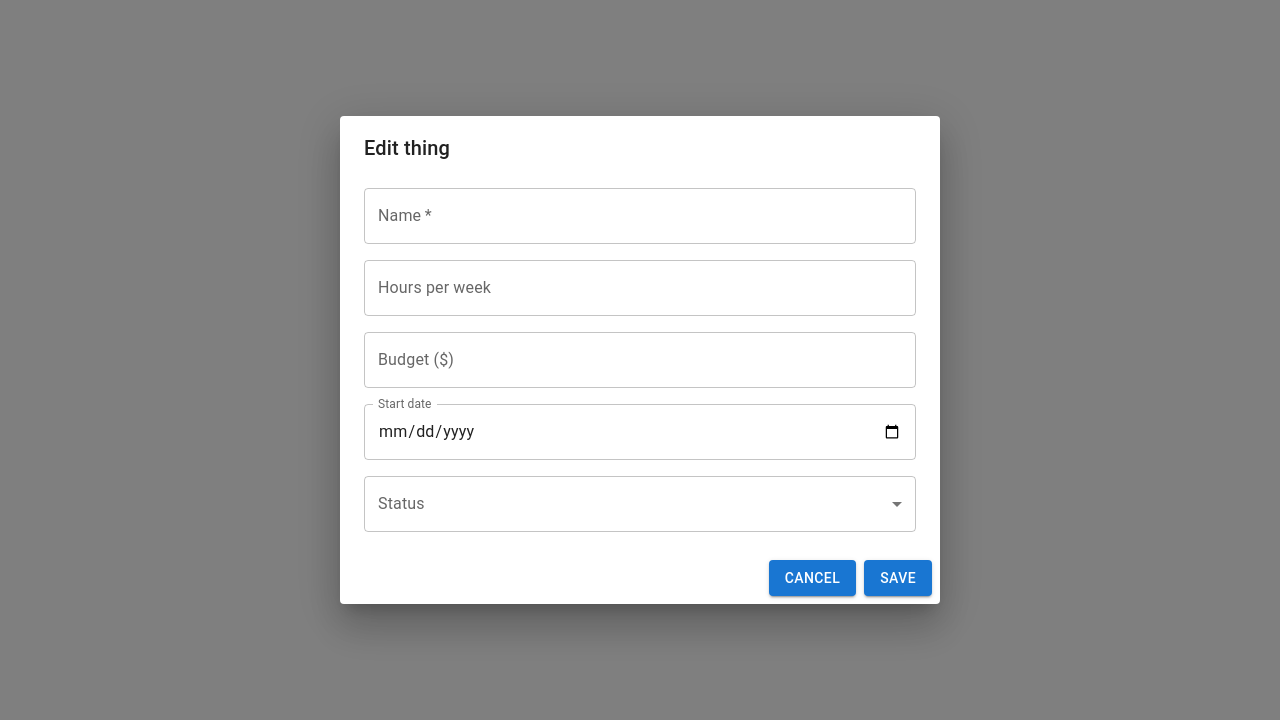
Test: FormDialog › checks before sending (spec 5a) › focuses the field the server names, once the form is enabled again
Type "Apollo" into the field labelled "Name *".
click(640, 216); type("Apollo")  # box [364,188,916,244]
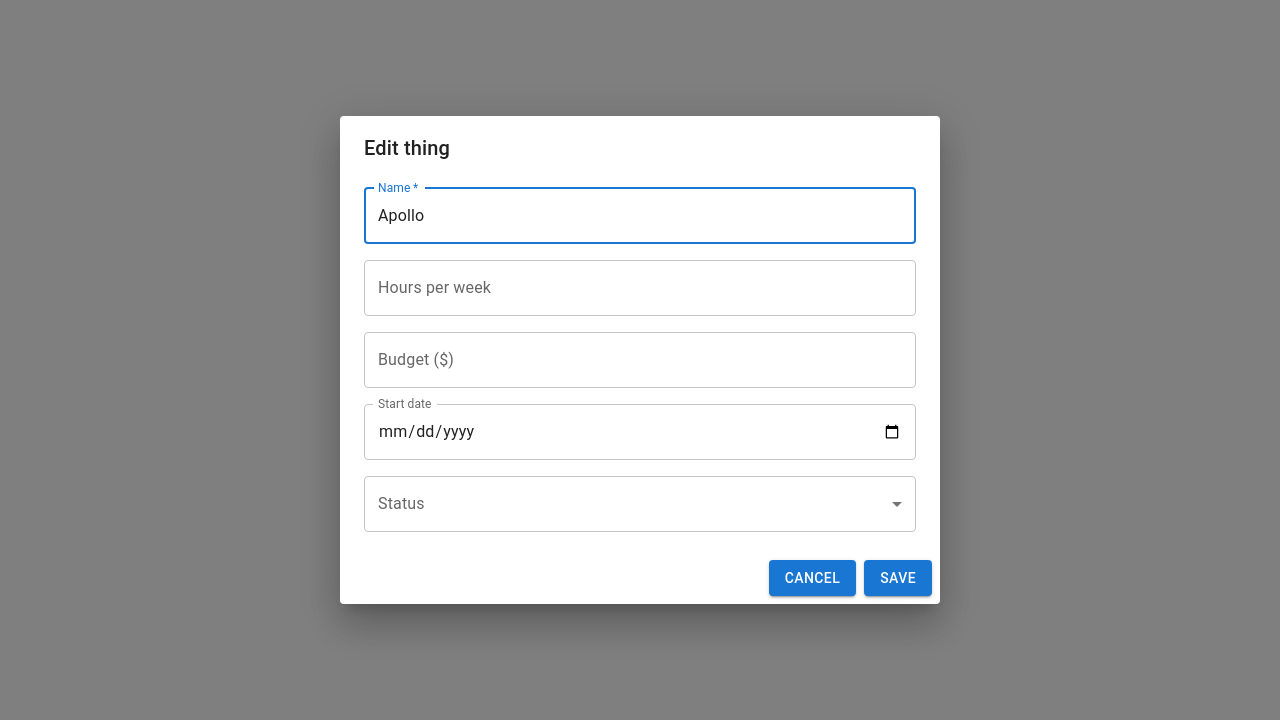
Type "60" into the number field labelled "Hours per week".
click(640, 288); type("60")  # box [364,260,916,316]
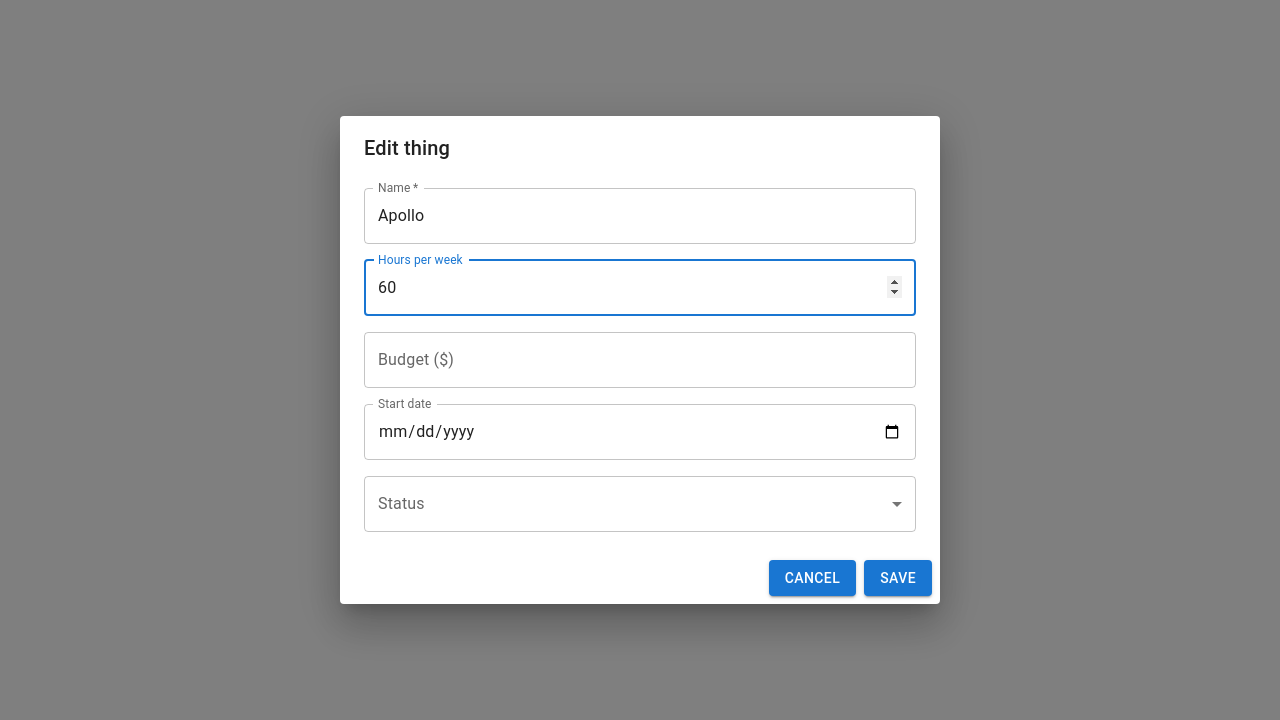
Click the button "Save".
click(898, 578)  # box [864,560,932,596]
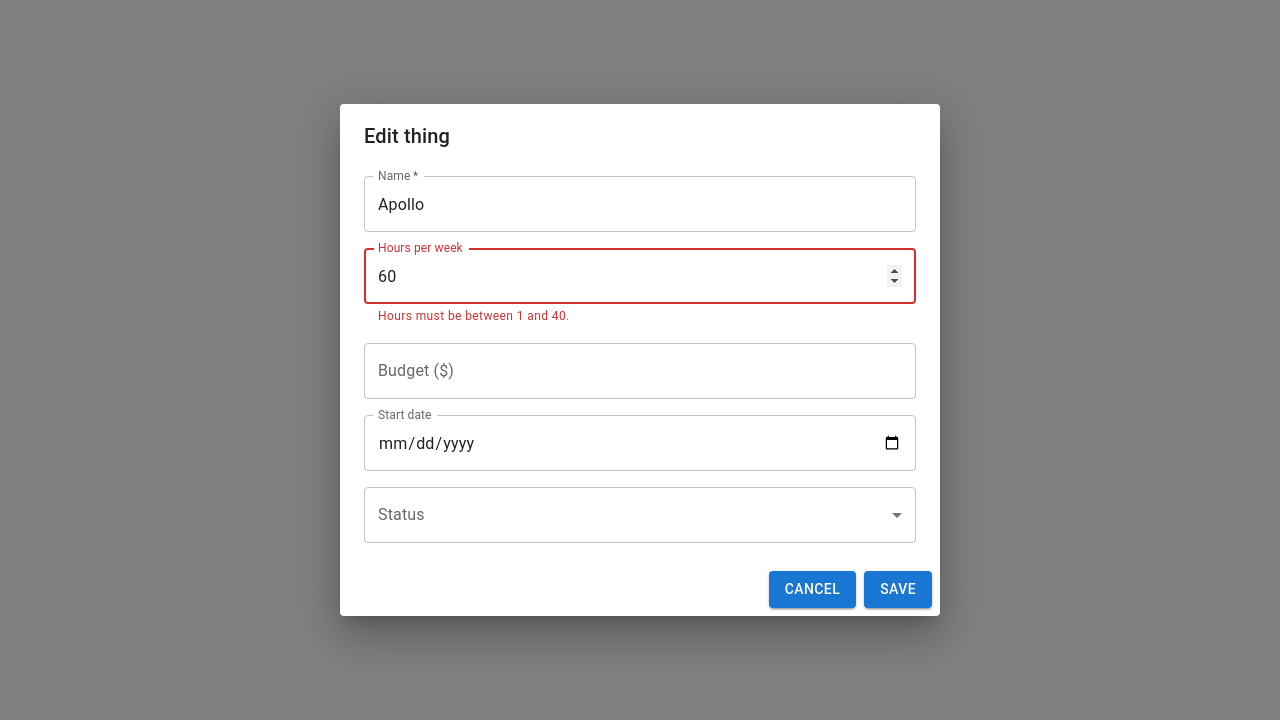
Expected: the text "Hours must be between 1 and 40." is shown, [378,309,570,323]
